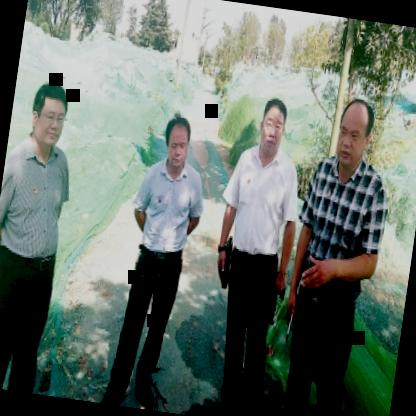head: (330, 93, 378, 175), (26, 76, 74, 150), (158, 113, 196, 176), (255, 92, 292, 156)
